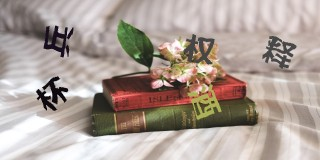兵: (43, 25, 73, 58)
权: (184, 34, 215, 64)
杯: (36, 76, 68, 111)
酒: (188, 84, 222, 120)
释: (262, 35, 296, 70)
